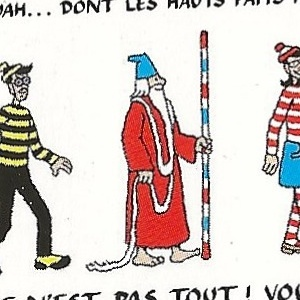Odlaw: (0, 64, 76, 280)
Wizard Whitebeard: (87, 32, 212, 268)
